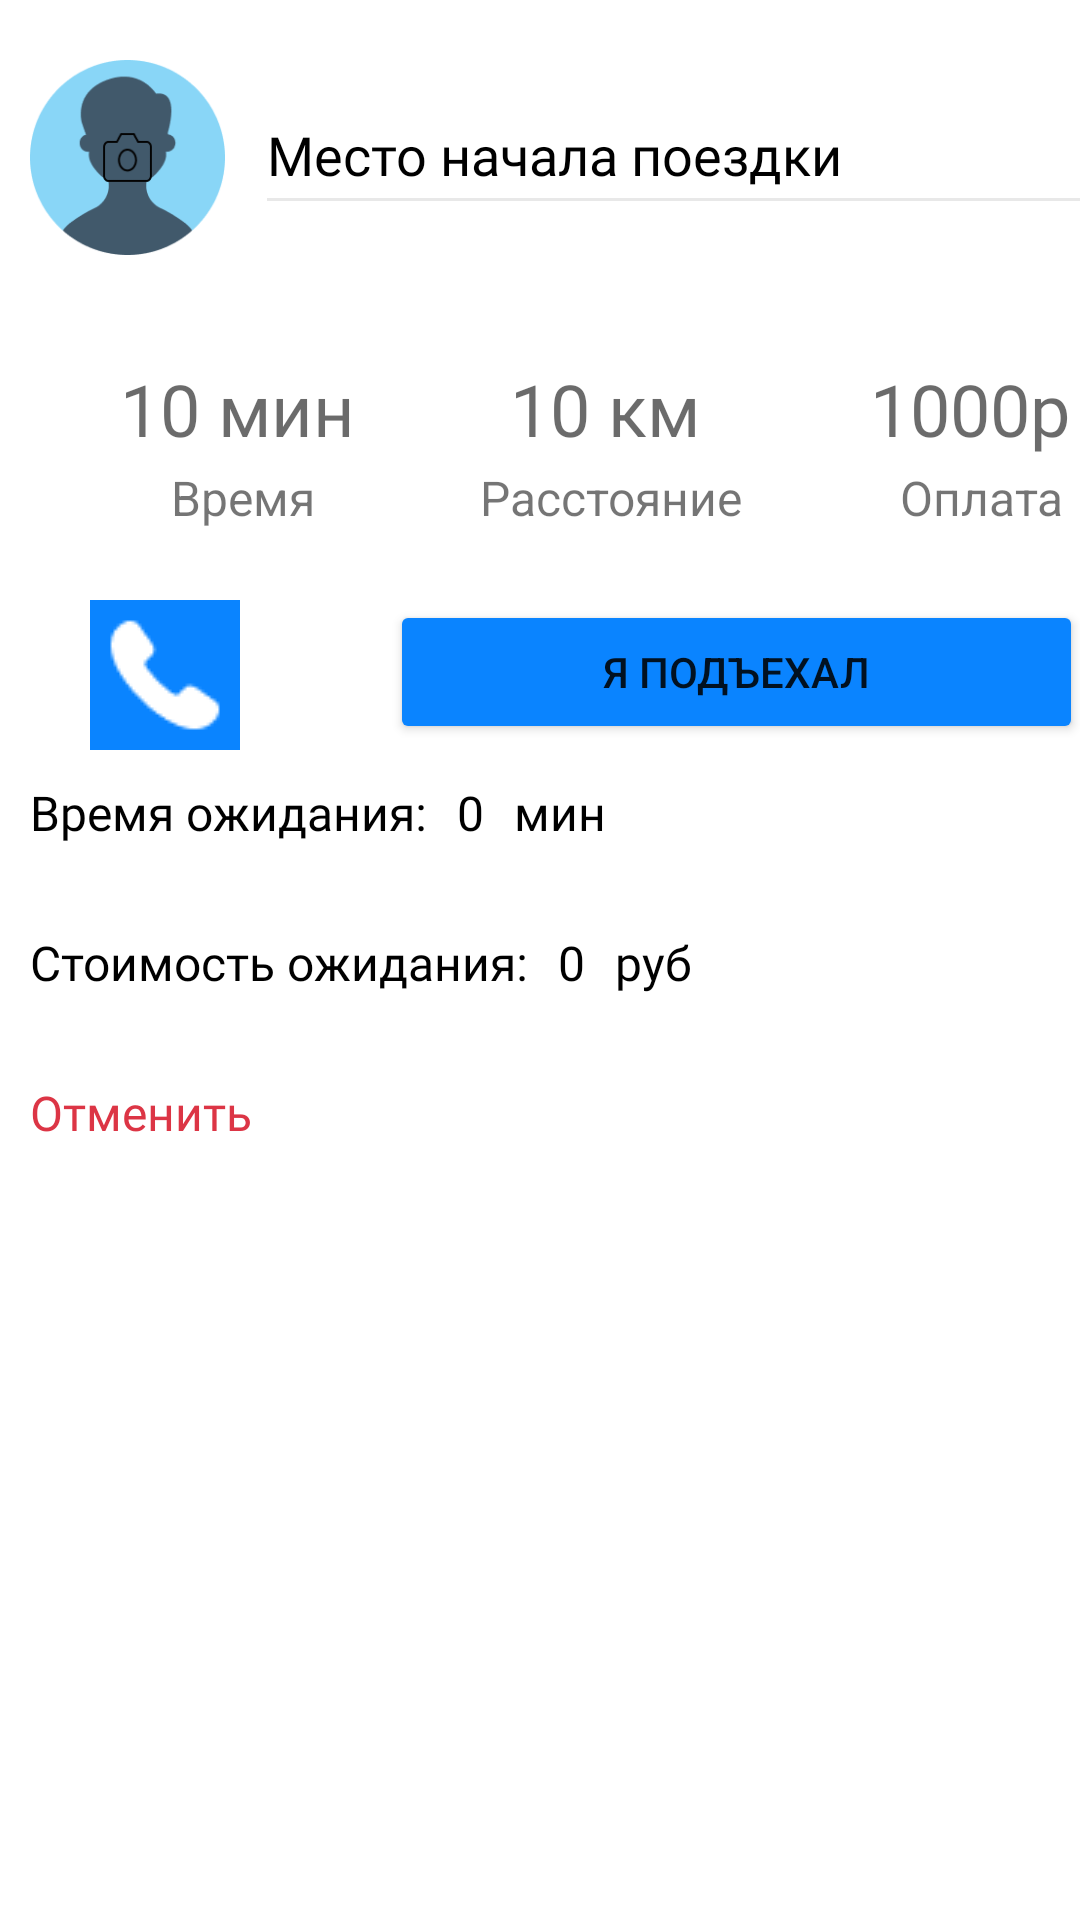

Where to tap for icons on this 1080w x 1920h app screen, as point (x, y):
tel: point (165, 675)
